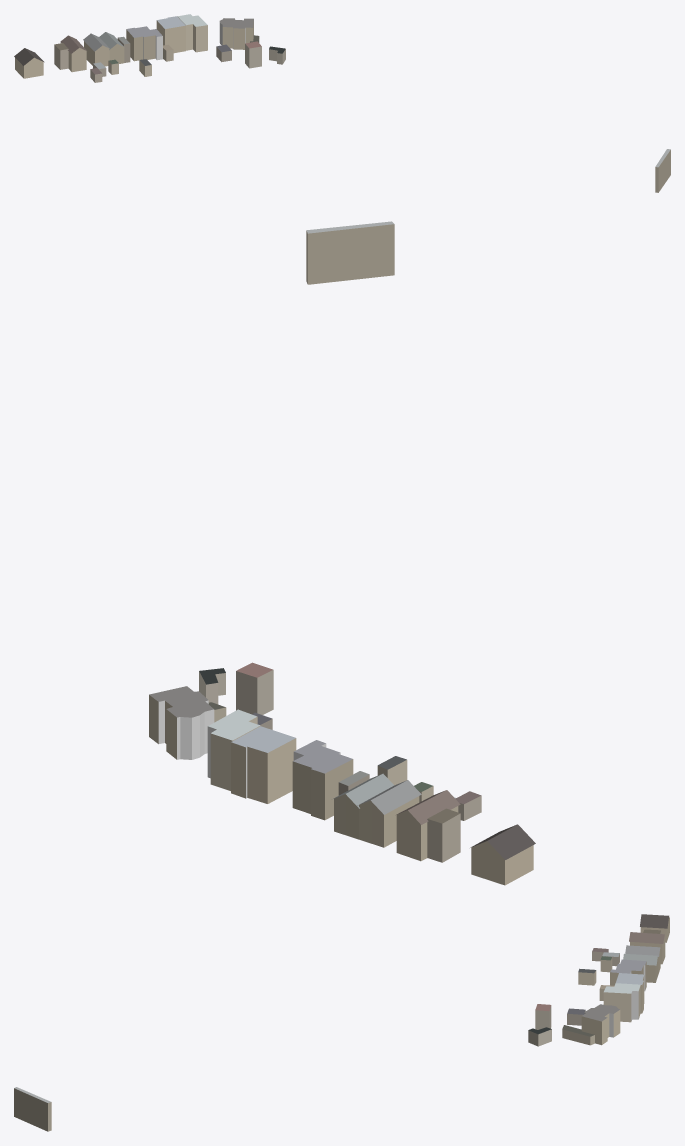
3 views of the same model, one above another, from view 1: azimuth 30°, elevation 25°; view 2: azimuth 150°, elevation 25°; view 3: azimuth 270°, elevation 25° (orthographic). The views are drawn at different scales.
Parts seen in each view (by area): view 1: tuile; view 2: tuile; view 3: tuile.
Boxes of the visible parts, x1=… form: tuile: x1=14, y1=14, x2=670, y2=192; tuile: x1=149, y1=221, x2=535, y2=885; tuile: x1=14, y1=914, x2=669, y2=1131.
Bounding box in the file's own units: 181 × 14.5 × 241.
